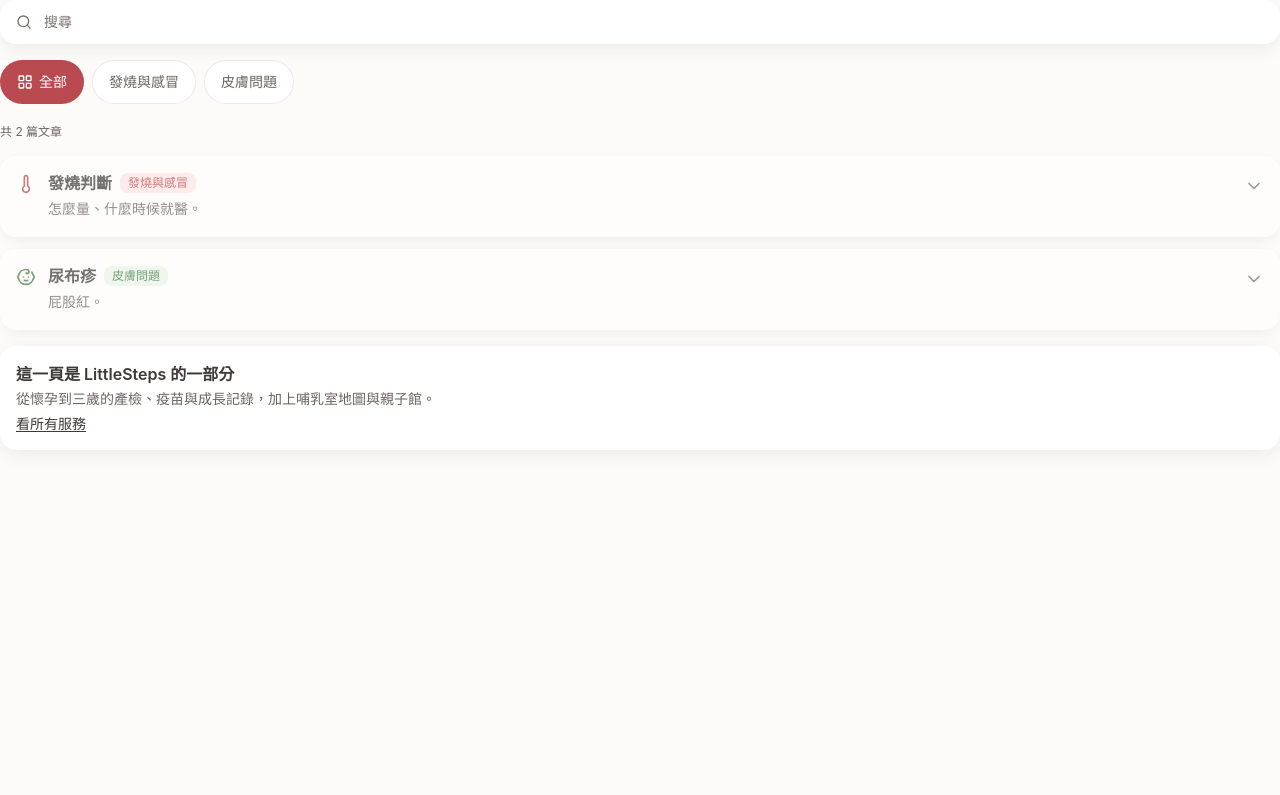
Test case: WikiBrowser: an open article › names its related articles and leaves out ids that resolve to nothing
Click the button "發燒判斷": [80, 183] box [48,161,112,205]
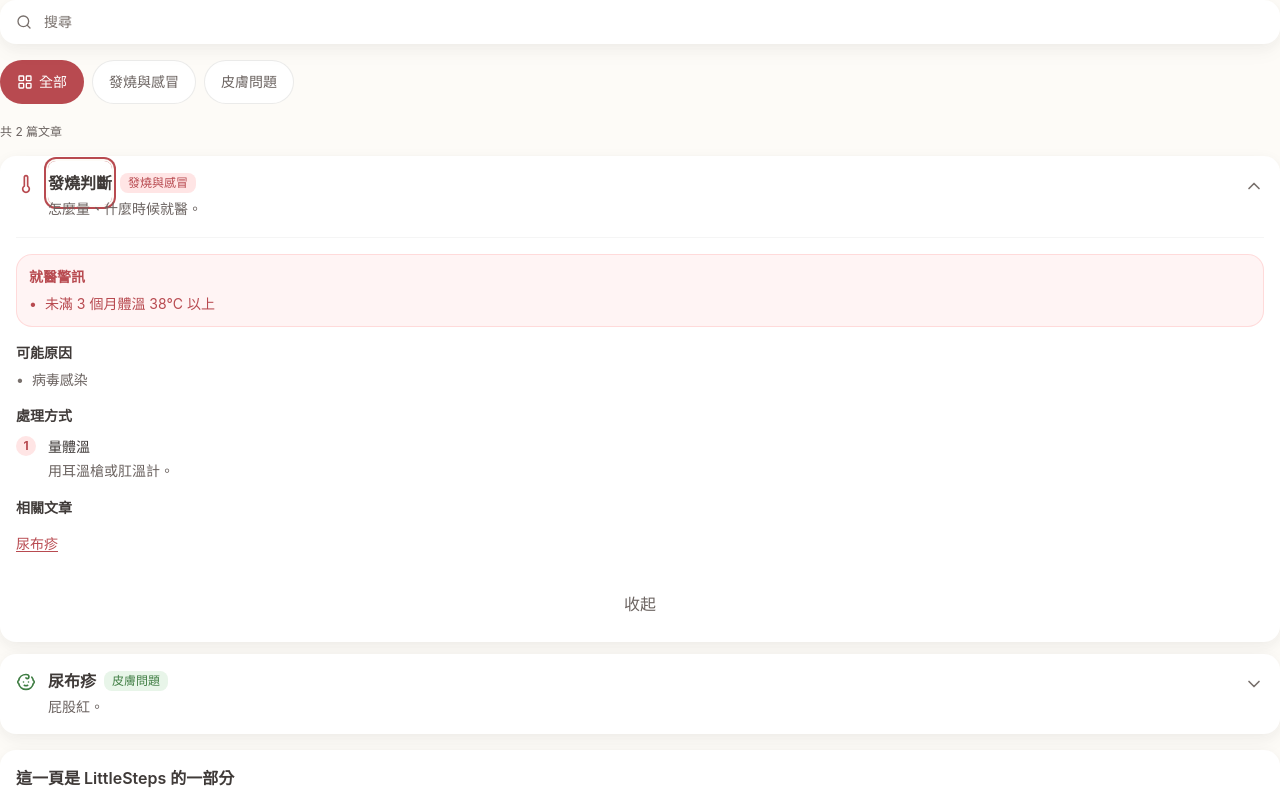
Now the buttons read "尿布疹", in this order, box [16,522,58,566]
